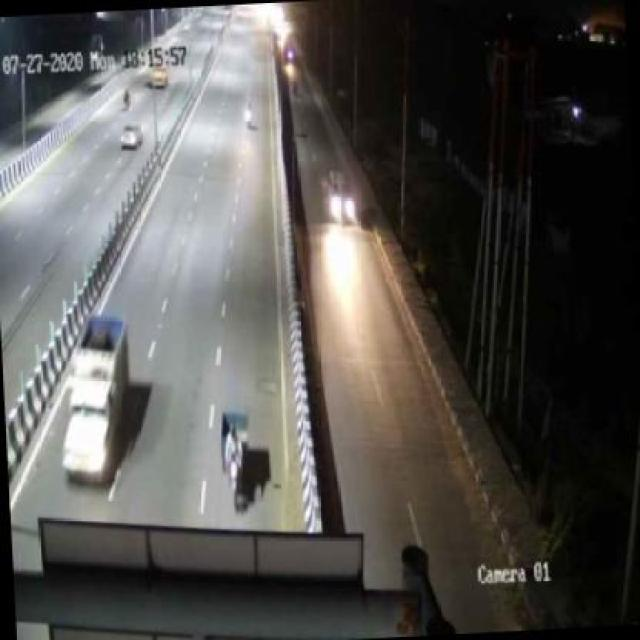car: (56, 311, 142, 478), (318, 164, 362, 233)
